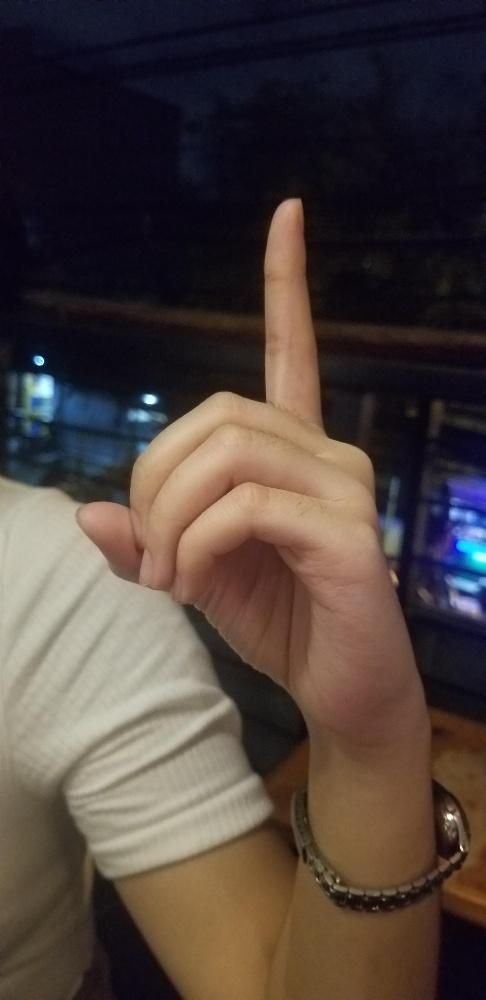d: (69, 192, 425, 711)
